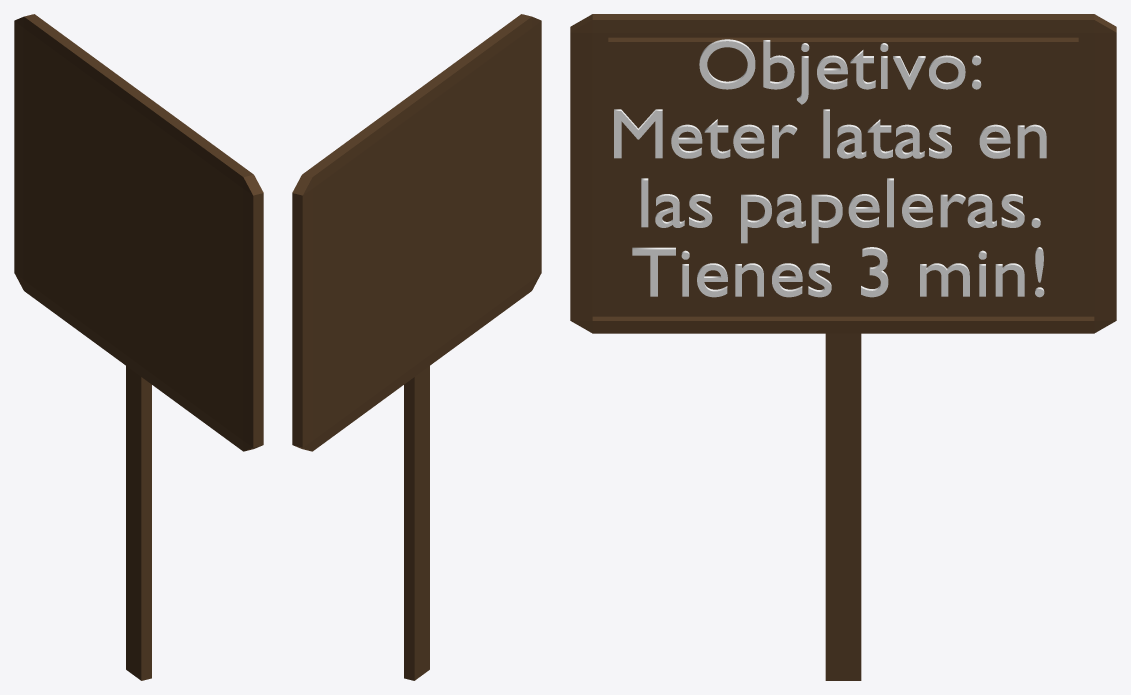
Rendered from Info_Main.fbx.
3 views of the same model, side by side, from view 1: azimuth 30°, elevation 25°; view 2: azimuth 150°, elevation 25°; view 3: azimuth 270°, elevation 25° (orthographic). The views are drawn at different scales.
Visible parts, largest first — view 1: Text.001; view 2: Text.001; view 3: Text.001.
Part boxes in pixels (x1,y1,x2,y2): Text.001: (14, 14, 263, 680); Text.001: (292, 14, 541, 680); Text.001: (570, 14, 1116, 680).
Size of the model in its own units: 3.02 by 112 by 84.21.
